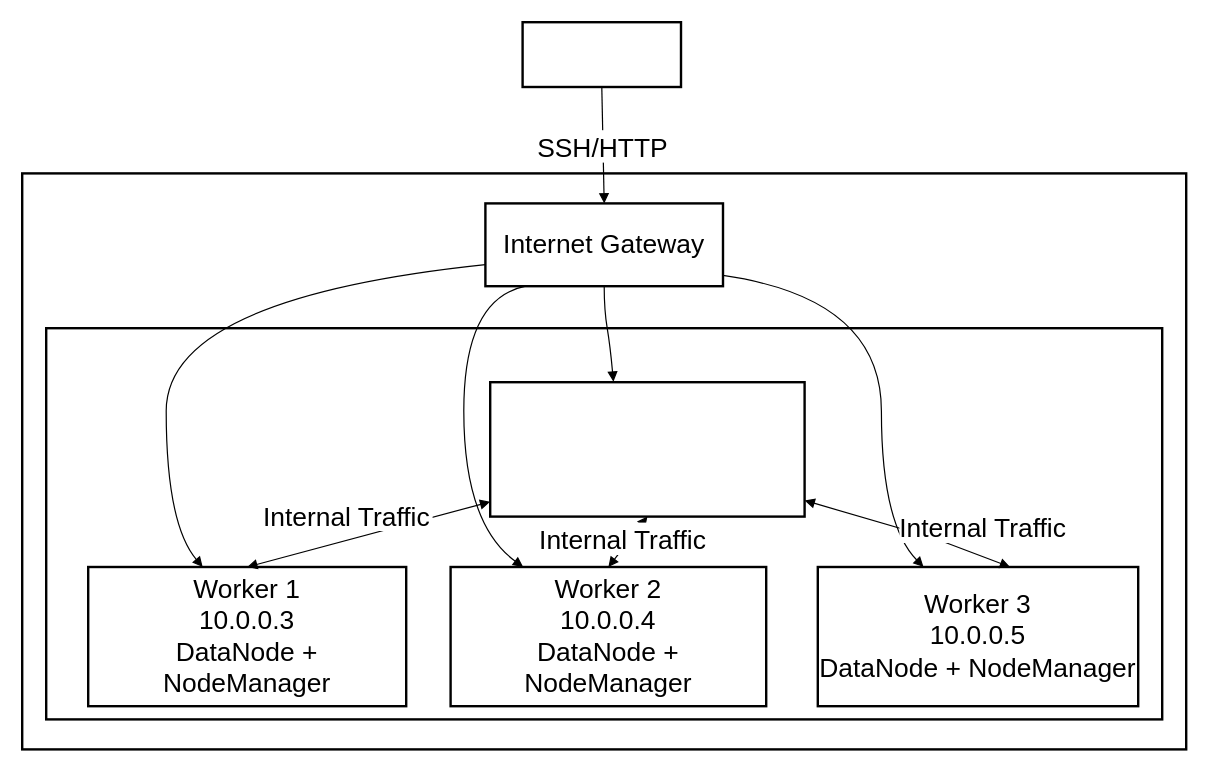
The diagram is 1207 pixels wide and 770 high, and some of its shapes have lost their labels. The shapes that lost their labels are listed below. From the top down, each one's box as (x1, y1, x2, y2) in pixels, then its label:
(521, 20, 682, 88): Admin PC
(488, 380, 805, 517): Master Node 10.0.0.2 Ambari Server + Services
(44, 326, 1163, 720): Public Subnet 10.0.0.0/24
